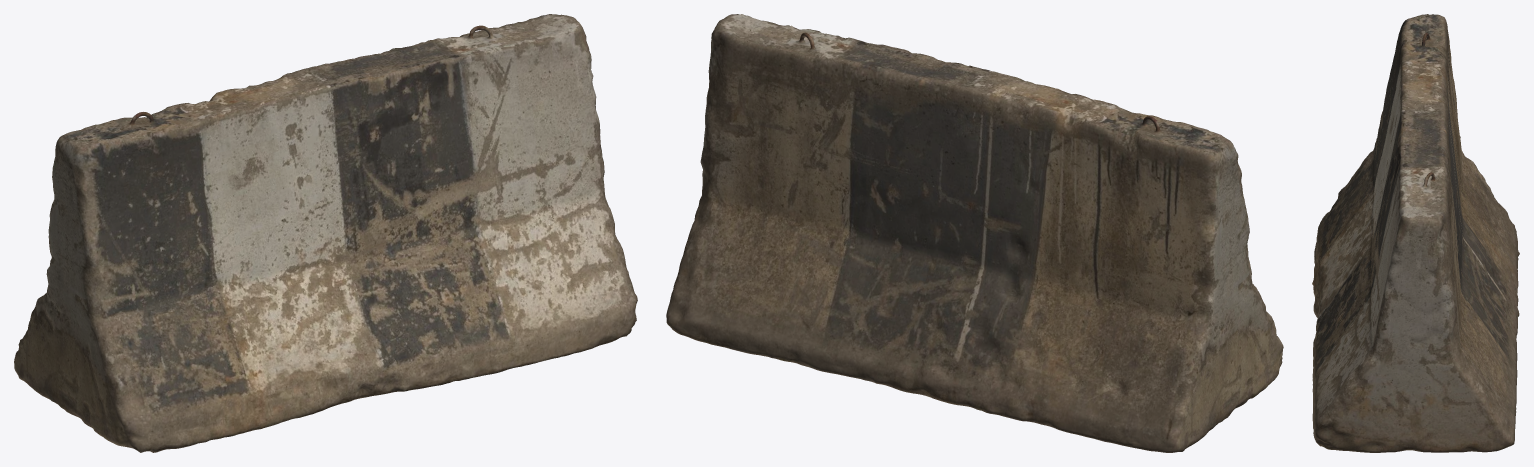
File: concrete_road_barrier.glb
3 renders of one model, left to right at view 1: azimuth 30°, elevation 25°; view 2: azimuth 150°, elevation 25°; view 3: azimuth 270°, elevation 25°, orthographic. The views are drawn at different scales.
Bounding box in the file's own units: 1.55 × 0.831 × 0.6388.
Materials: 1 (1 with a texture image).
